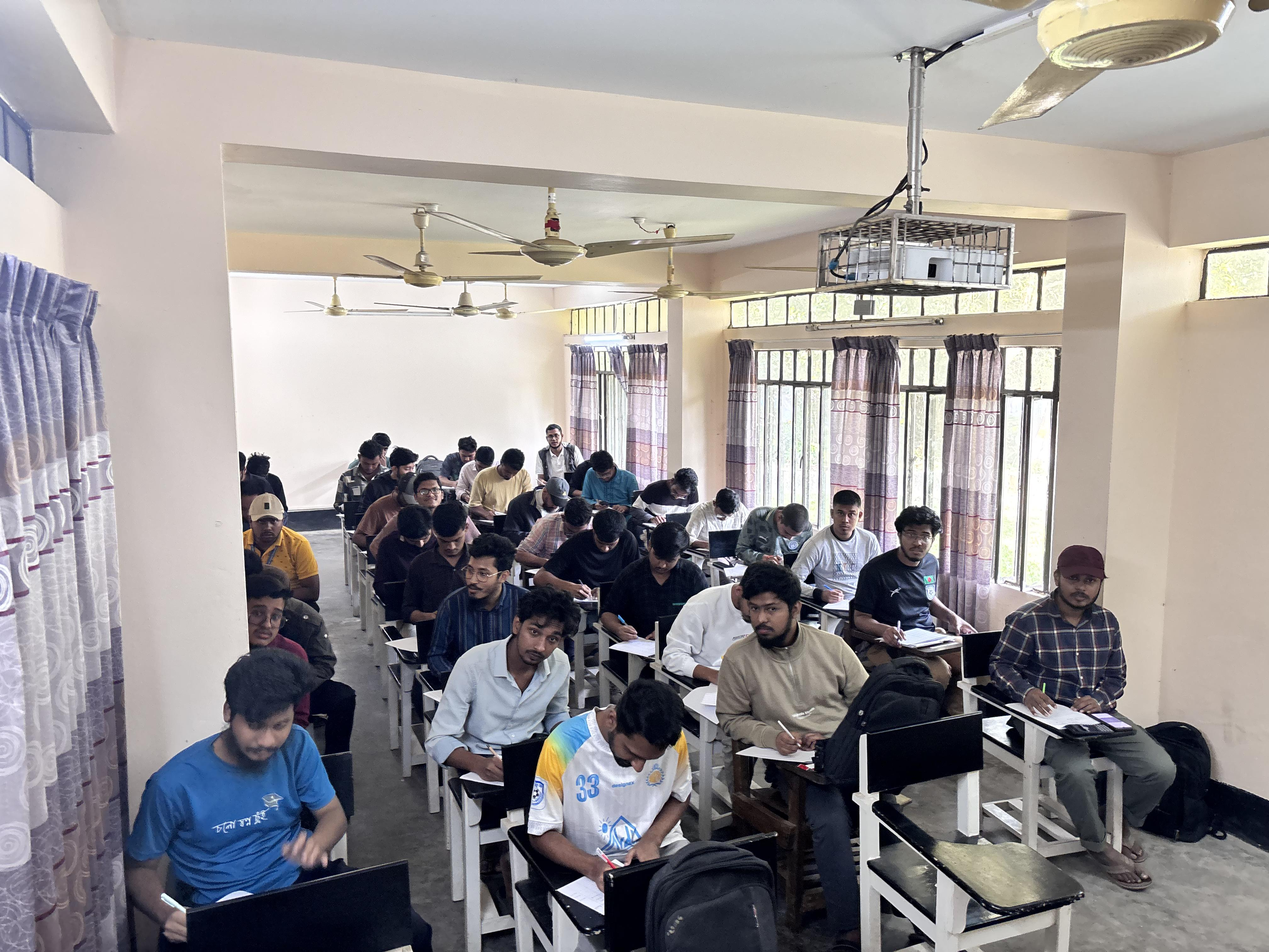copying: (389, 444, 420, 477)
no_cheating: (157, 647, 366, 922), (559, 677, 716, 905), (727, 582, 855, 783), (453, 597, 593, 775), (890, 496, 988, 670), (626, 525, 705, 635), (565, 507, 641, 605), (813, 484, 874, 578), (744, 498, 806, 570), (387, 504, 435, 589), (431, 500, 472, 590), (511, 478, 581, 530), (642, 470, 702, 526), (247, 494, 290, 561), (244, 577, 287, 643), (483, 448, 523, 516), (580, 450, 627, 502), (691, 487, 741, 533), (349, 437, 392, 486), (548, 504, 593, 542), (447, 435, 482, 477), (542, 423, 571, 467), (413, 470, 447, 501)
side_talking: (448, 539, 513, 630)
using_phone: (1004, 529, 1174, 778)
